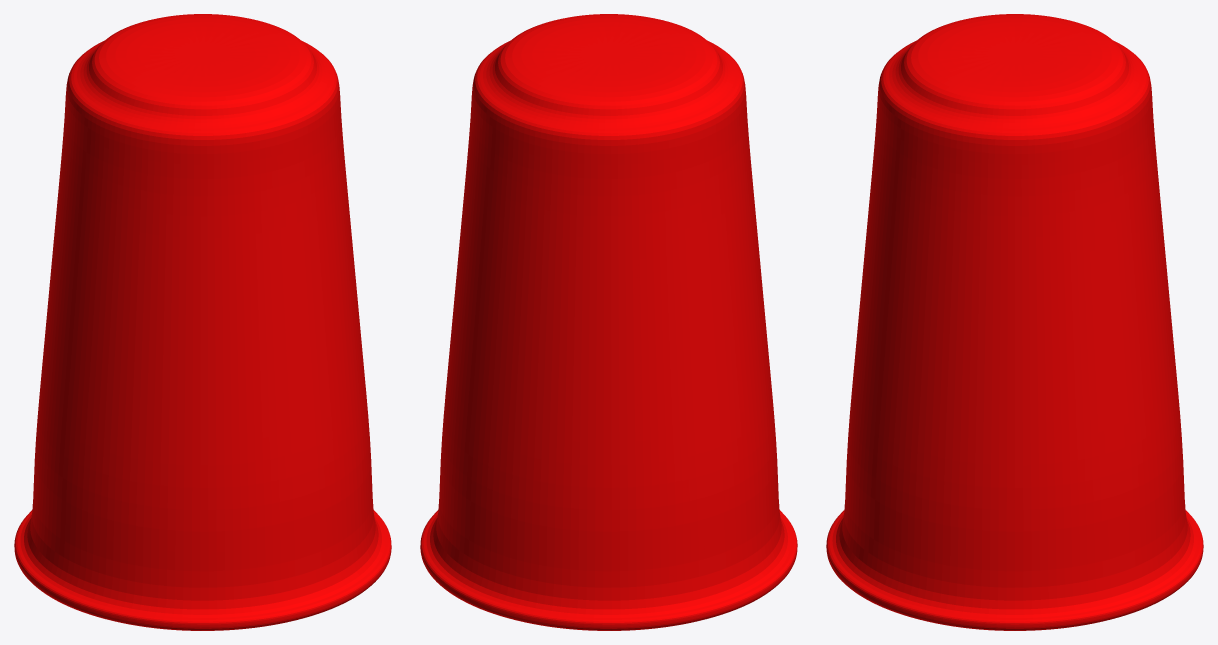
The model's file is Drum_Red.fbx.
3 renders of one model, left to right at view 1: azimuth 30°, elevation 25°; view 2: azimuth 150°, elevation 25°; view 3: azimuth 270°, elevation 25°, orthographic.
Parts seen in each view (by area): view 1: Traffic Cone.001; view 2: Traffic Cone.001; view 3: Traffic Cone.001.
Boxes of the visible parts, x1,y1,x2,y2 form: Traffic Cone.001: (14,14,391,630); Traffic Cone.001: (420,14,797,630); Traffic Cone.001: (826,14,1203,630).
Bounding box in the file's own units: 66.57 × 98.24 × 66.57.
